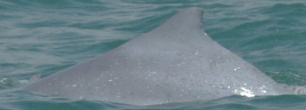fin: (19, 3, 284, 107)
